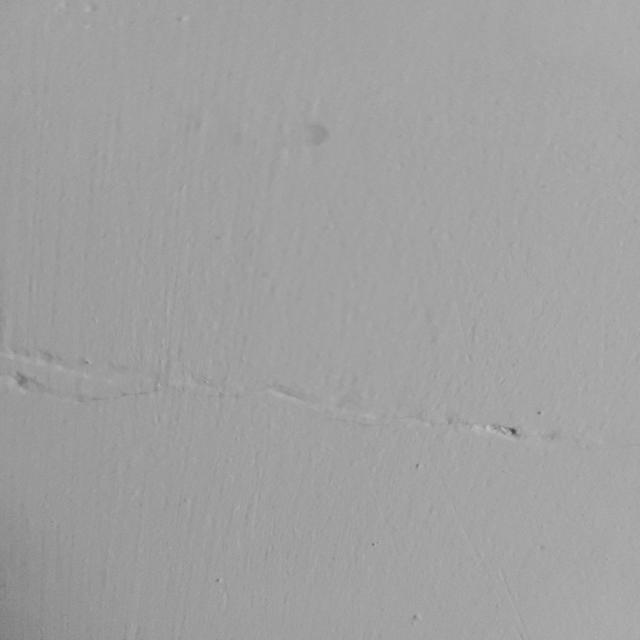rough and patchy surface: (8, 3, 622, 300), (10, 320, 602, 499), (14, 511, 637, 634)
